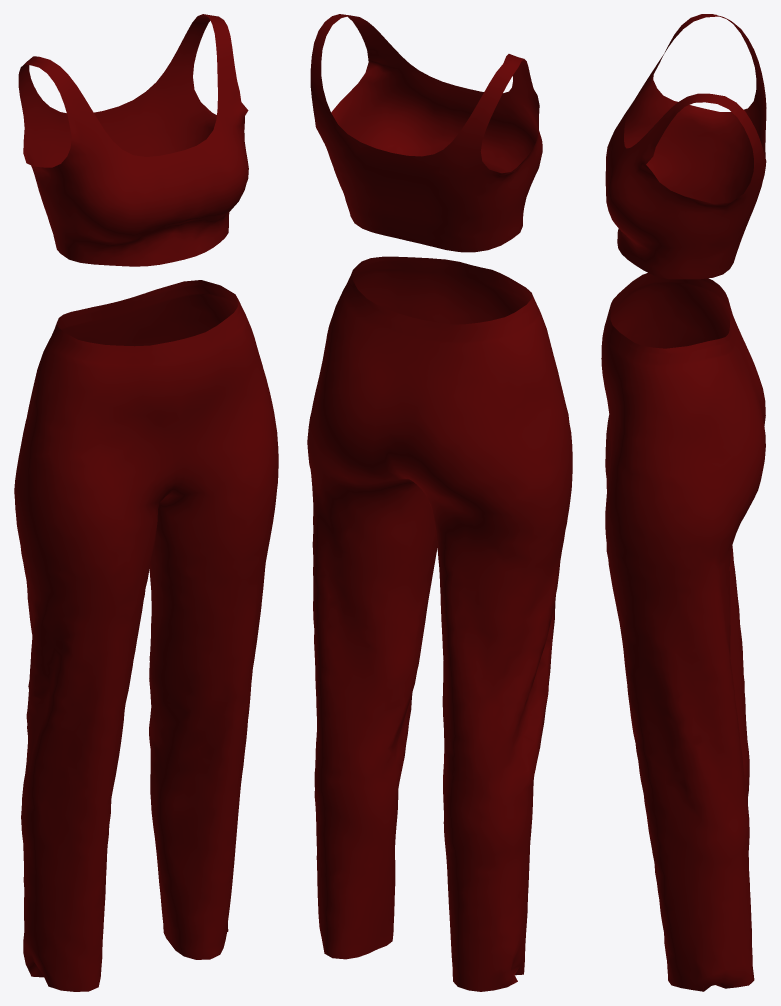
3 views of the same model, side by side, from view 1: azimuth 30°, elevation 25°; view 2: azimuth 150°, elevation 25°; view 3: azimuth 270°, elevation 25° (orthographic). The views are drawn at different scales.
Visible parts, largest first — view 1: Deafault_1; view 2: Deafault_1; view 3: Deafault_1.
Boxes of the visible parts, x1=… form: Deafault_1: x1=14, y1=14, x2=278, y2=991; Deafault_1: x1=307, y1=14, x2=572, y2=991; Deafault_1: x1=601, y1=14, x2=766, y2=991.
Bounding box in the file's own units: 0.3772 × 1.37 × 0.2278.
